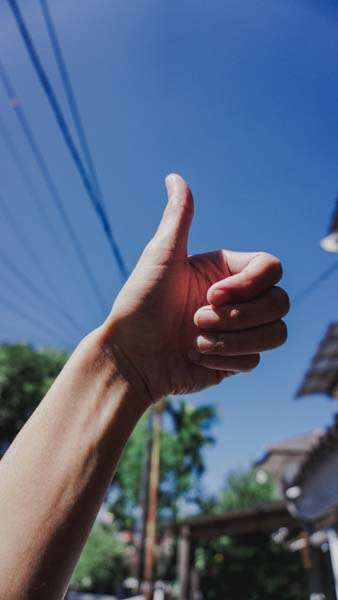Thumbs Up: (91, 166, 300, 415)
